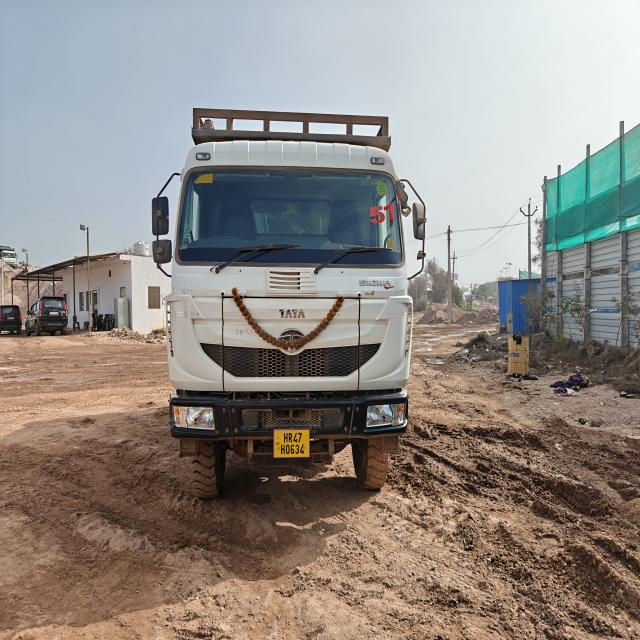license_plate: (274, 430, 309, 457), (50, 312, 59, 315), (8, 317, 15, 319)
